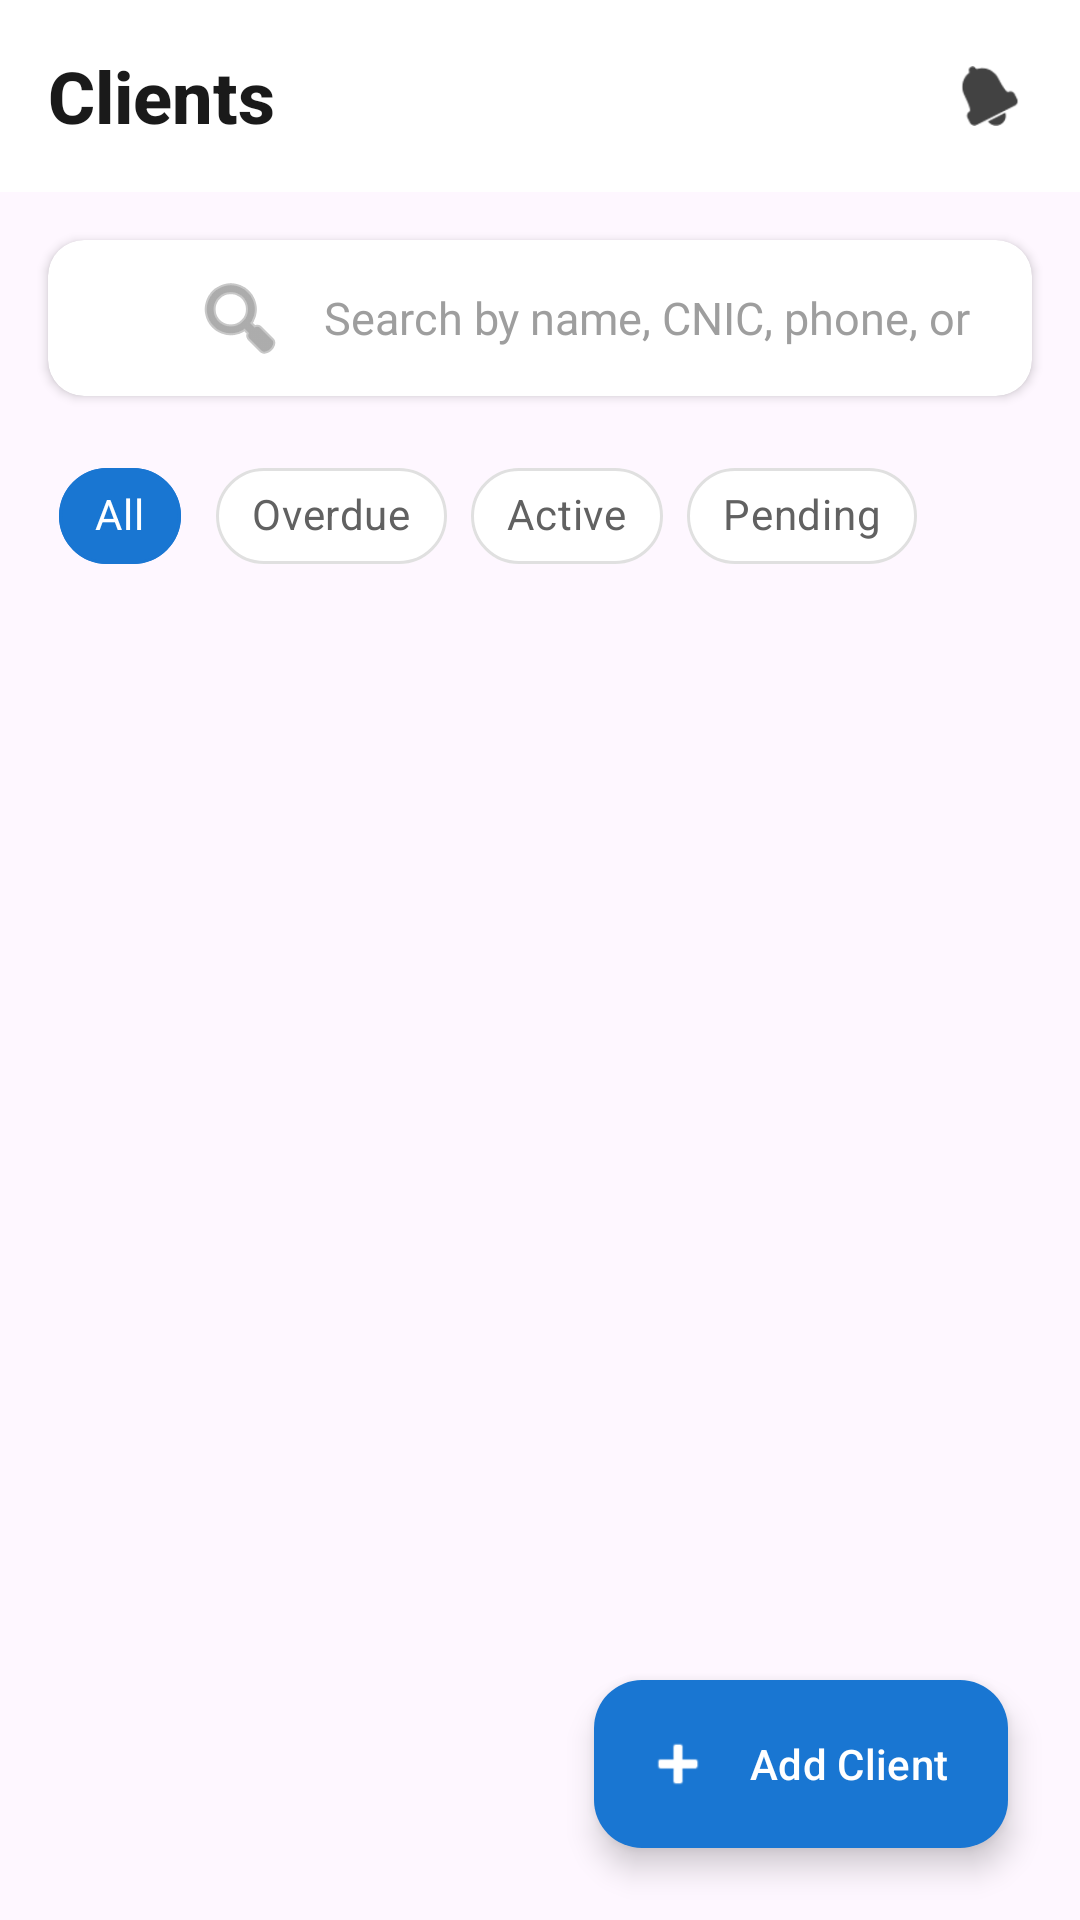

Icon click points for this 1080px x 1920px phone screenshot, format [x,y]:
popup reminder: [990,96]
